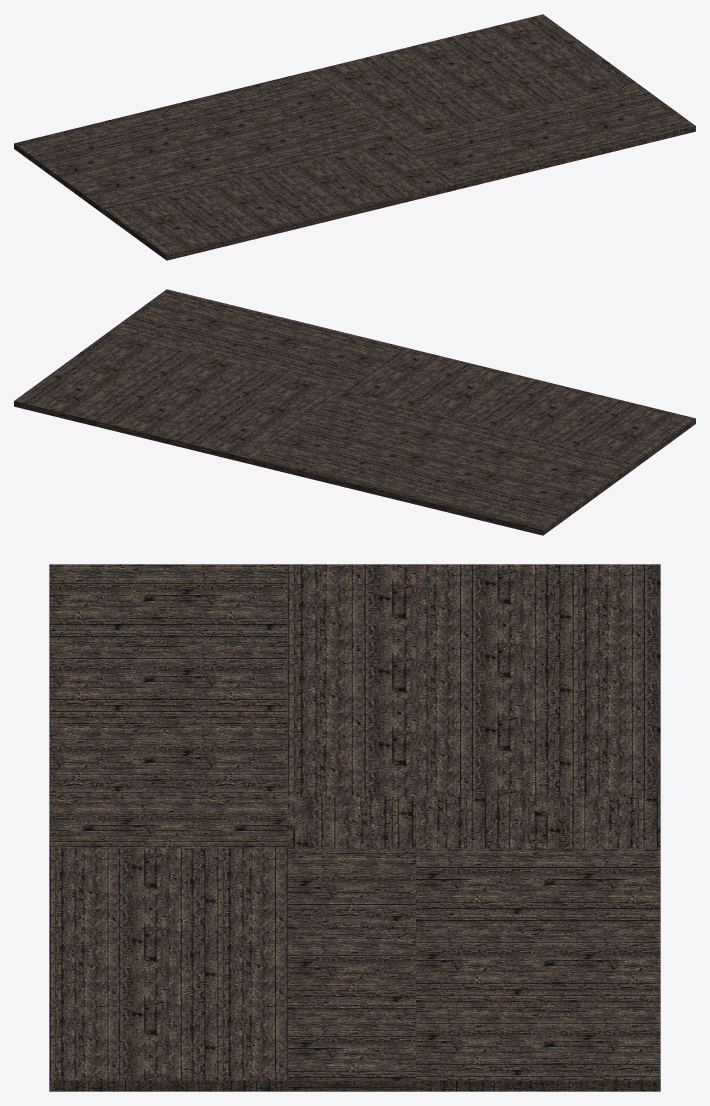
The model's file is floor_1.fbx.
3 renders of one model, top to bottom at view 1: azimuth 30°, elevation 25°; view 2: azimuth 150°, elevation 25°; view 3: azimuth 270°, elevation 25°, orthographic. The views are drawn at different scales.
Visible parts, largest first — view 1: FLOOR_01; view 2: FLOOR_01; view 3: FLOOR_01.
Part boxes in pixels (box(x1,y1,x2,y2)): FLOOR_01: box(14, 14, 695, 260); FLOOR_01: box(14, 289, 695, 535); FLOOR_01: box(49, 564, 660, 1091).
Bounding box in the file's own units: 4000 × 40 × 2000.
